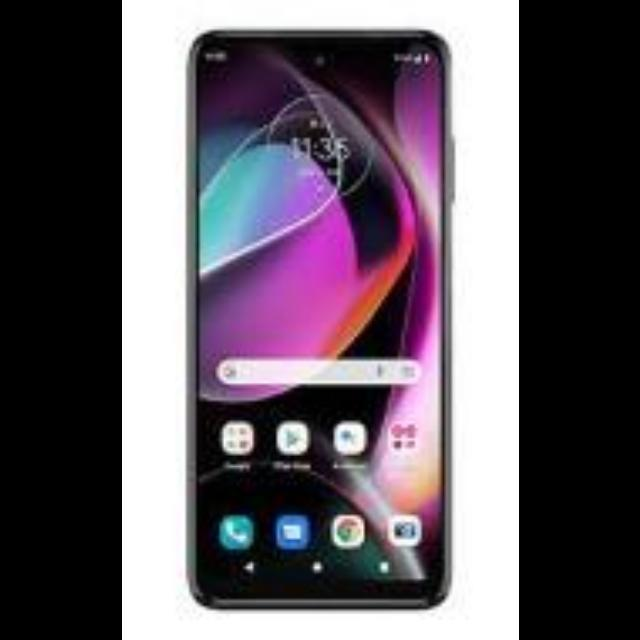phone: (183, 19, 445, 617)
